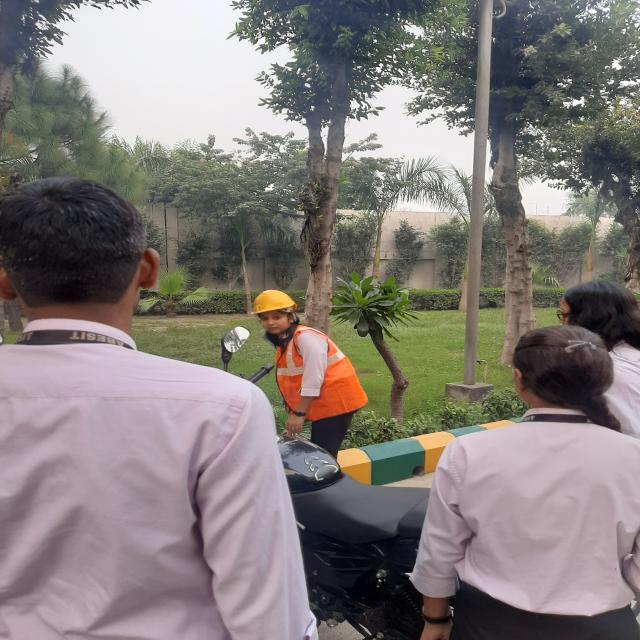safe: (250, 284, 359, 450)
unsafe: (0, 174, 249, 621), (425, 323, 640, 620)
